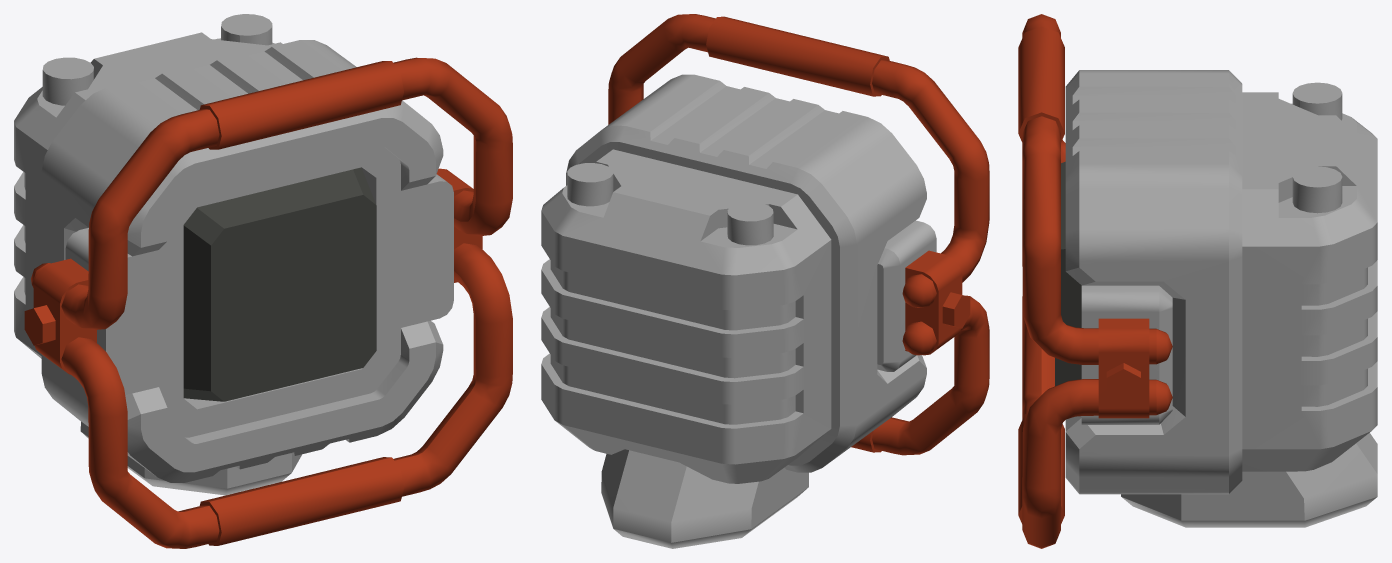
The model's file is obj_interactive_rangelight_large.fbx.
3 views of the same model, side by side, from view 1: azimuth 30°, elevation 25°; view 2: azimuth 150°, elevation 25°; view 3: azimuth 270°, elevation 25° (orthographic). The views are drawn at different scales.
Parts seen in each view (by area): view 1: del1_lp.001, del1_lp.002, rangelight_face_lp.001; view 2: del1_lp.001, del1_lp.002; view 3: del1_lp.001, del1_lp.002, rangelight_face_lp.001.
Part boxes in pixels (<box>): del1_lp.001: <box>14,14,453,495</box>; del1_lp.002: <box>24,57,512,548</box>; rangelight_face_lp.001: <box>183,167,376,401</box>; del1_lp.001: <box>541,74,936,548</box>; del1_lp.002: <box>608,14,989,455</box>; del1_lp.001: <box>1065,70,1377,527</box>; del1_lp.002: <box>1018,14,1172,548</box>; rangelight_face_lp.001: <box>1055,161,1081,386</box>.
Size of the model in its own units: 3.2 by 3 by 2.3.
